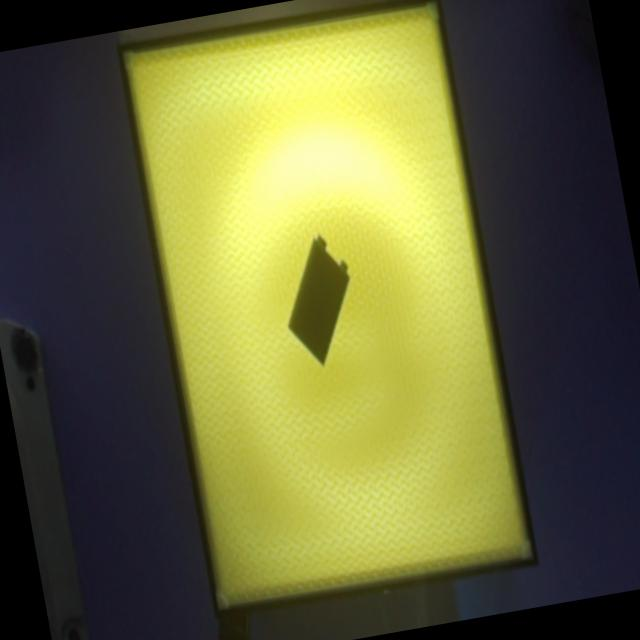bateria: (287, 236, 349, 366)
mesa: (116, 0, 538, 620)
